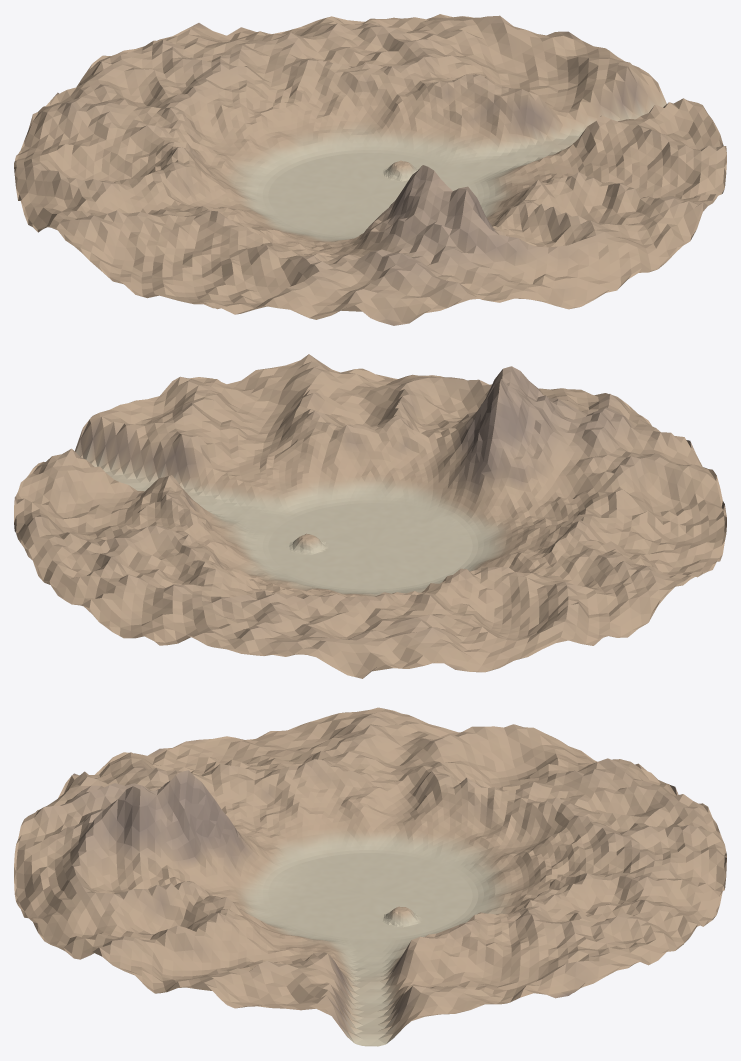
The model's file is terrain.glb.
The picture shows the model from 3 angles, top to bottom: view 1: azimuth 30°, elevation 25°; view 2: azimuth 150°, elevation 25°; view 3: azimuth 270°, elevation 25°; orthographic projection.
Parts seen in each view (by area): view 1: terrain; view 2: terrain; view 3: terrain.
Boxes of the visible parts, x1,y1,x2,y2 form: terrain: (14,14,726,325); terrain: (14,354,726,678); terrain: (14,707,726,1046).
Size of the model in its own units: 8798 by 1460 by 8798.
